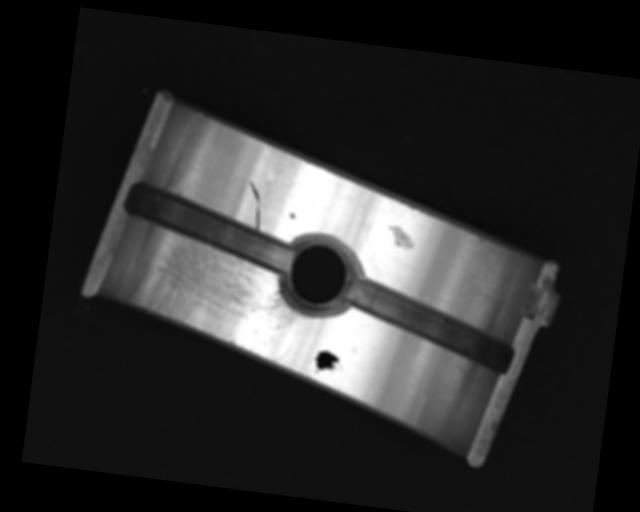blot: (312, 348, 345, 376)
bruise: (386, 224, 416, 251), (289, 211, 296, 219)
gap: (117, 179, 301, 275), (339, 276, 520, 373)
hole: (276, 231, 363, 320)
nick: (243, 179, 267, 230)
scratch: (123, 227, 314, 362)
